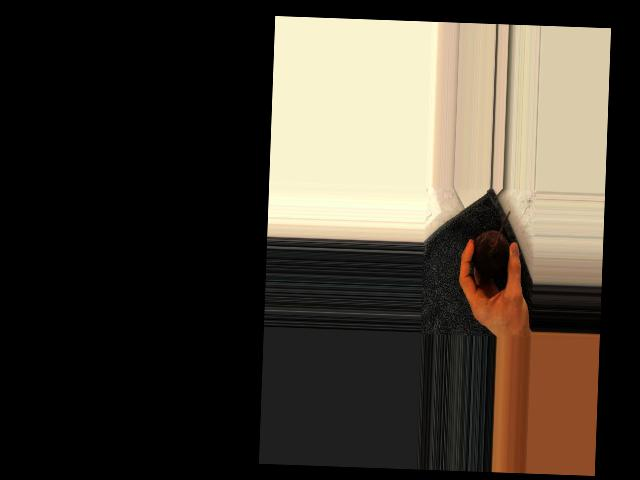beet: (471, 209, 511, 278)
